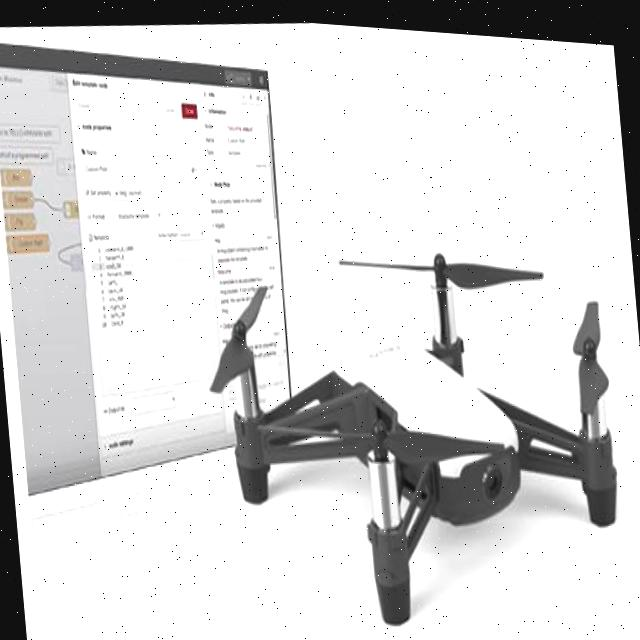drone: (176, 196, 640, 640)
